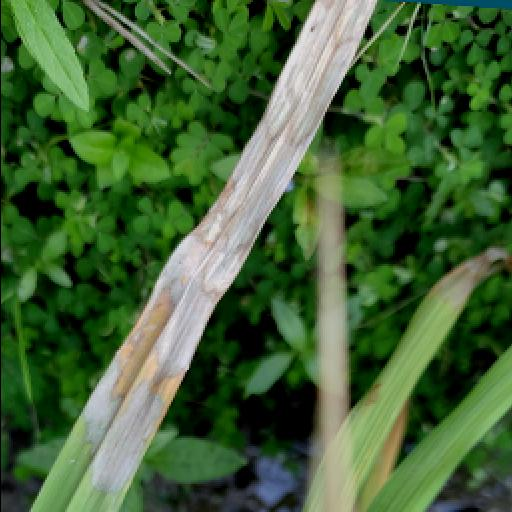Sheath Blight: (78, 0, 376, 478)
